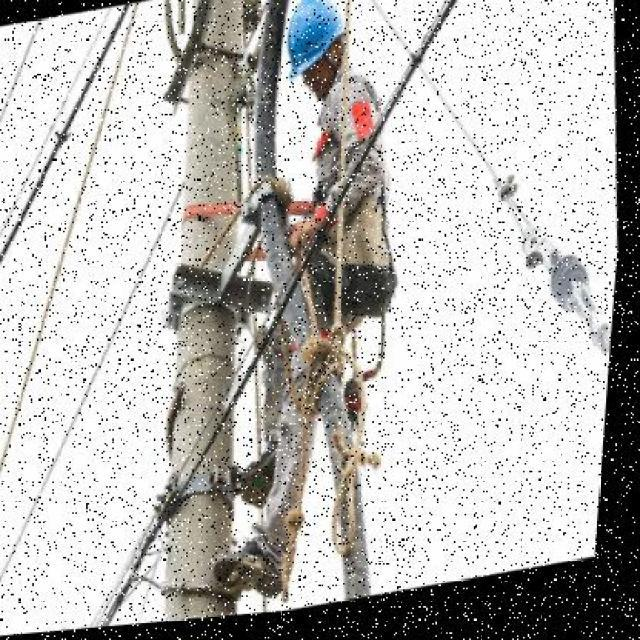helmet: (273, 0, 358, 102)
